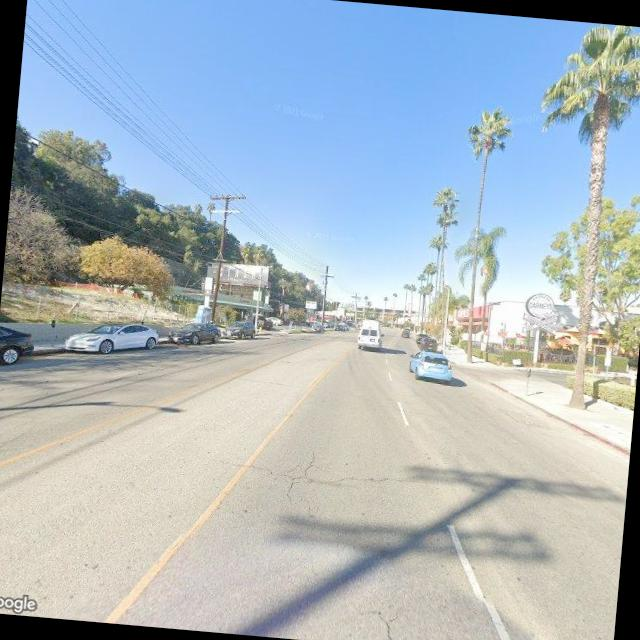crack: (232, 442, 408, 509)
